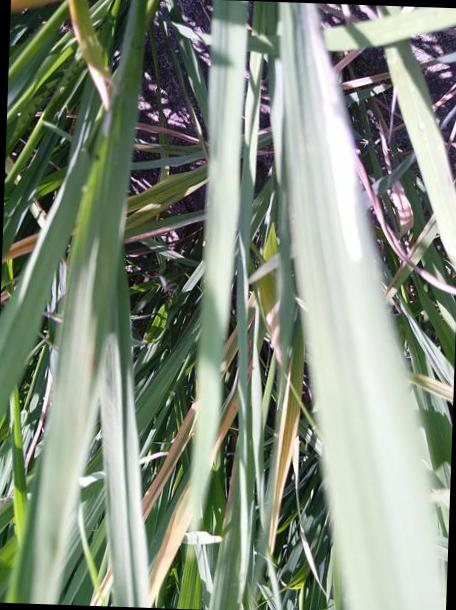Leaf Blight: (144, 400, 199, 517), (269, 386, 300, 553), (126, 169, 202, 228), (149, 508, 191, 598), (251, 267, 282, 361), (78, 33, 110, 105), (211, 394, 237, 459), (88, 567, 113, 606), (6, 231, 35, 257), (223, 325, 237, 368), (10, 0, 56, 10)
